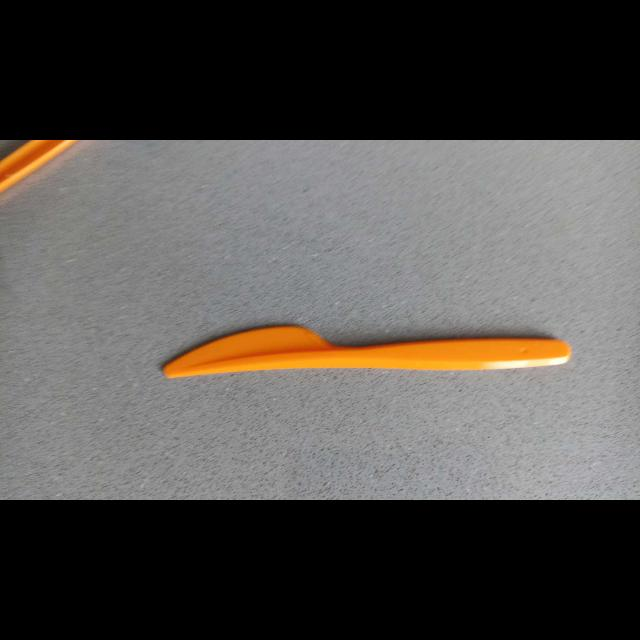plastic_cultery: (162, 322, 574, 391)
